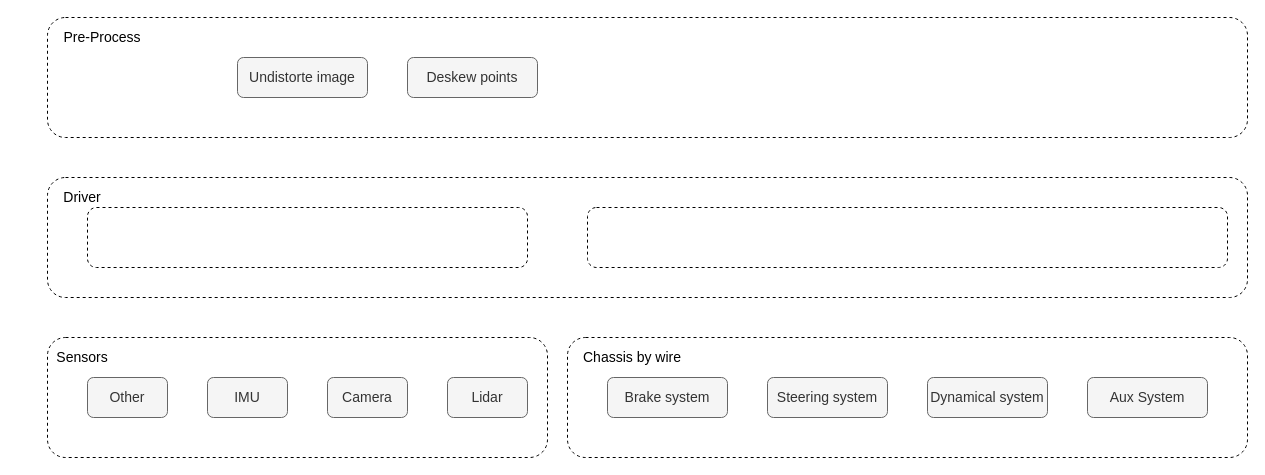
This 1265x475 diagram has some shape labels left out. The centre of each missing label's shape, as x and y in pixels:
Chassis driver: (x=907, y=237)
Sensors driver: (x=307, y=237)
